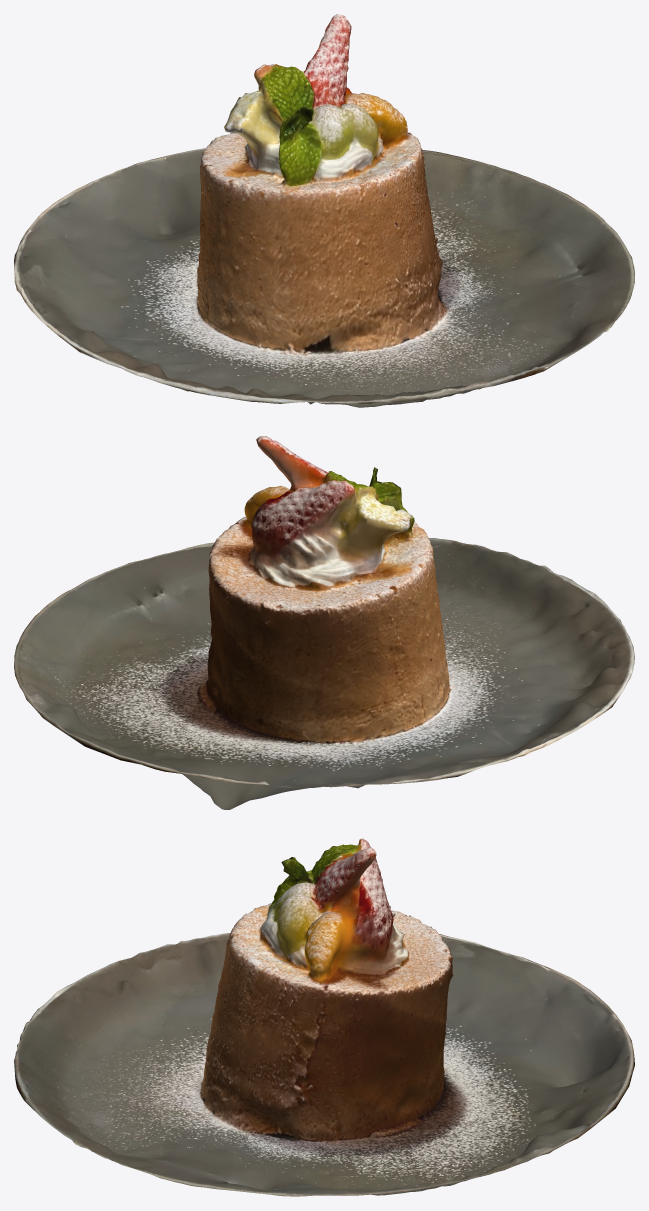
File: cafe-slim-cake-reduced-jpg.glb
The picture shows the model from 3 angles, top to bottom: view 1: azimuth 30°, elevation 25°; view 2: azimuth 150°, elevation 25°; view 3: azimuth 270°, elevation 25°; orthographic projection.
Visible parts, largest first — view 1: g0; view 2: g0; view 3: g0.
Part boxes in pixels (<box>): g0: <box>14,14,634,407</box>; g0: <box>14,436,634,809</box>; g0: <box>14,838,634,1196</box>.
Size of the model in its own units: 0.2684 by 0.1339 by 0.2695.
Materials: 1 (1 with a texture image).
